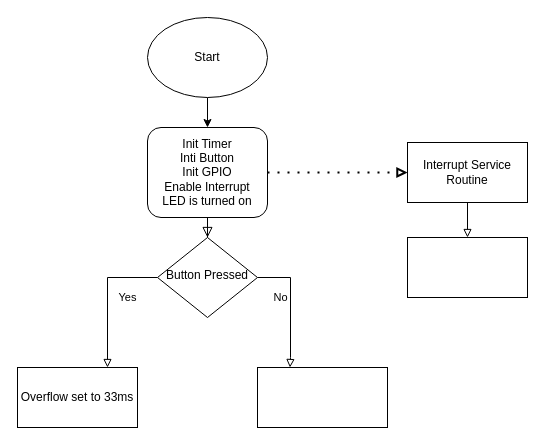
Some shapes in this 545 by 445 pixel diagram are drawn without their labels. Each missing label, with the centre of its shape:
Overflow set to 262 ms: [322,397]
Toggles the LED: [467,267]
